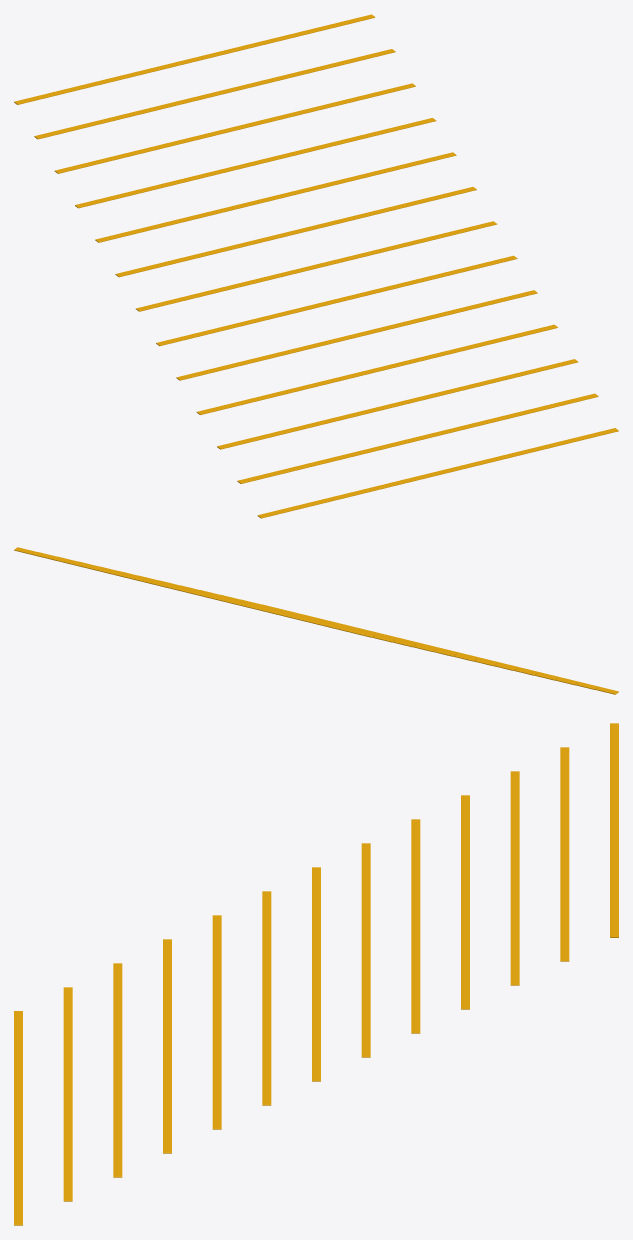
File: gteki_ik_stair_n13_r162_t304_w3111_nosing.glb
3 views of the same model, one above another, from view 1: azimuth 30°, elevation 25°; view 2: azimuth 150°, elevation 25°; view 3: azimuth 270°, elevation 25° (orthographic). The views are drawn at different scales.
Parts seen in each view (by area): view 1: VIS_nosings; view 2: VIS_nosings; view 3: VIS_nosings.
Boxes of the visible parts, bbox=[...] form: VIS_nosings: bbox=[14, 14, 618, 518]; VIS_nosings: bbox=[14, 547, 618, 694]; VIS_nosings: bbox=[14, 723, 618, 1225].
Bounding box in the file's own units: 3.1 × 1.95 × 3.7.
